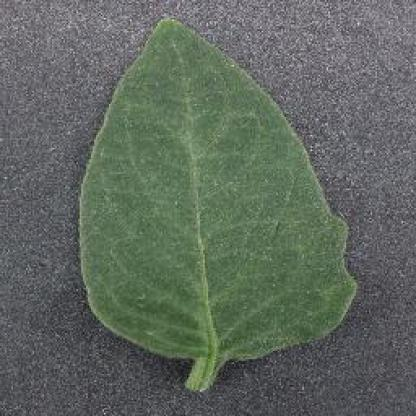good leaf: (82, 15, 355, 410)
